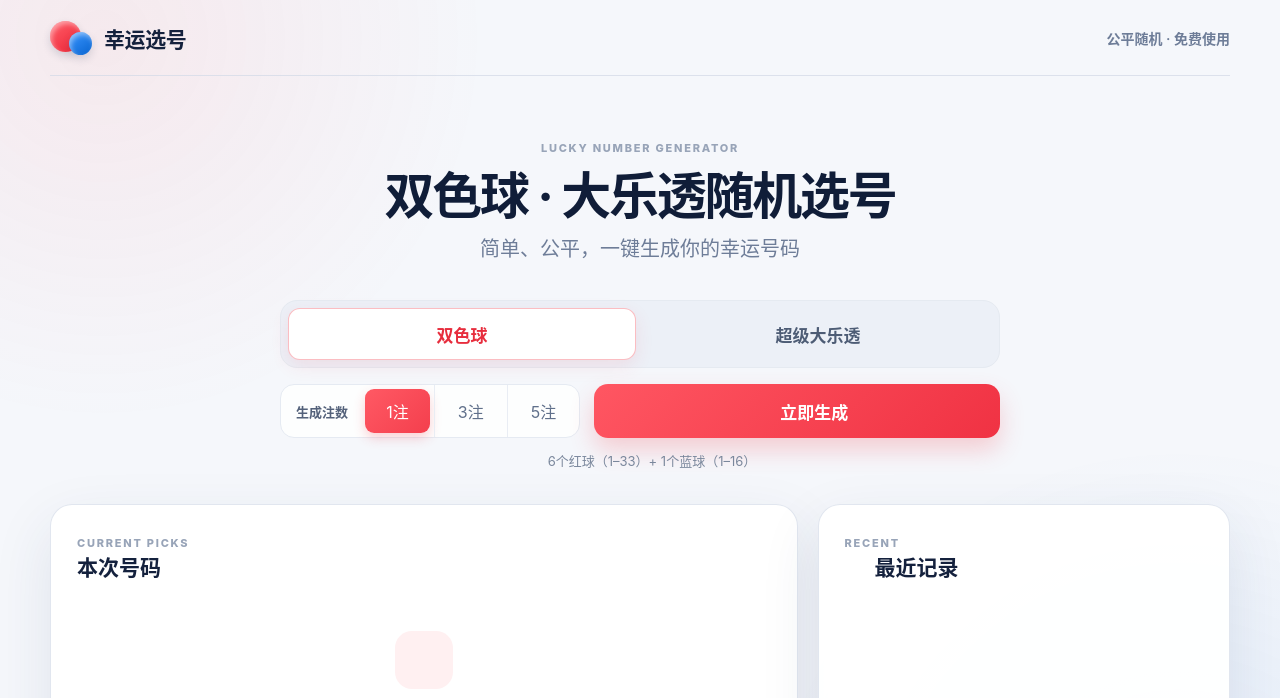
Test case: App › reports a clipboard failure
What coordinates should you click on to do the following:
click the button with class "generate-button"
I would click on:
 (797, 411)
Its box is 594,384 -> 1000,438.
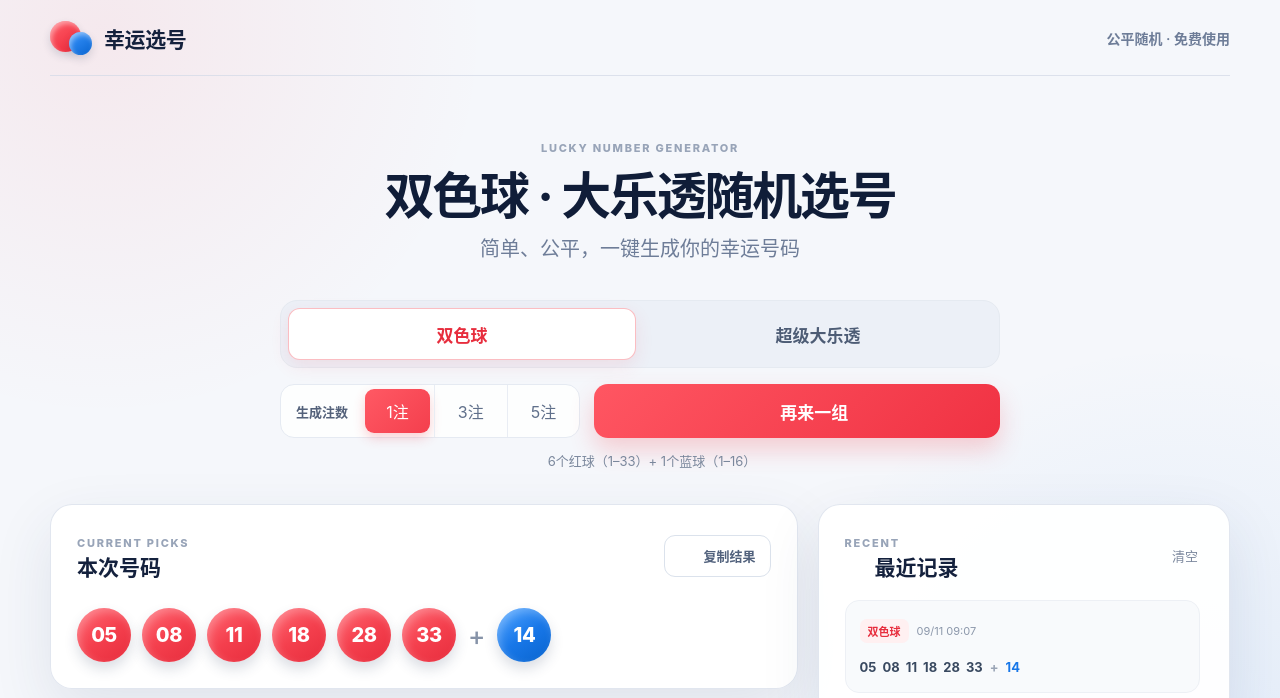
What coordinates should you click on to do the following:
click the button with class "secondary-button"
I would click on:
 (717, 556)
Its box is 664,535 -> 770,577.
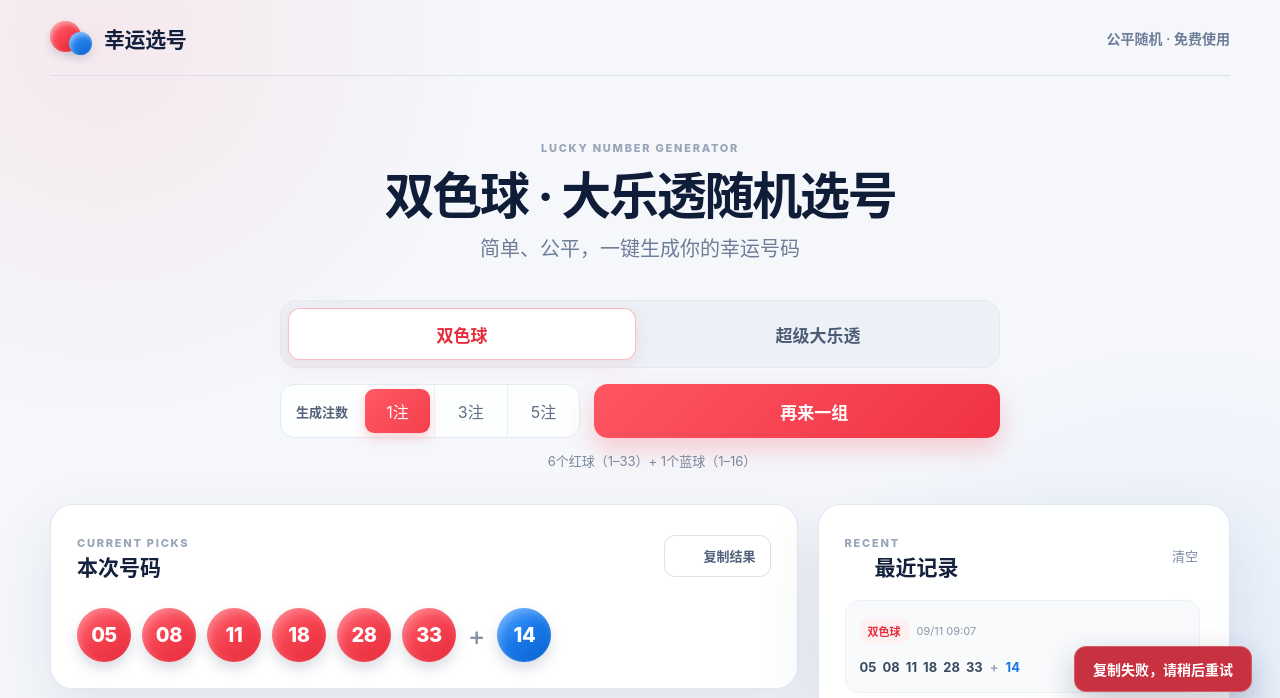
expect the text "复制失败，请稍后重试" is shown: met, box 1074,646 -> 1252,692
